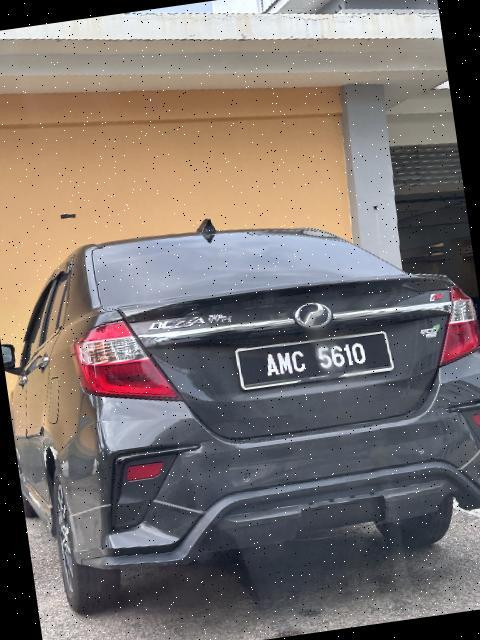AMC5610: (236, 324, 395, 394)
License_Plate: (236, 324, 395, 394)
car: (1, 181, 480, 631)
